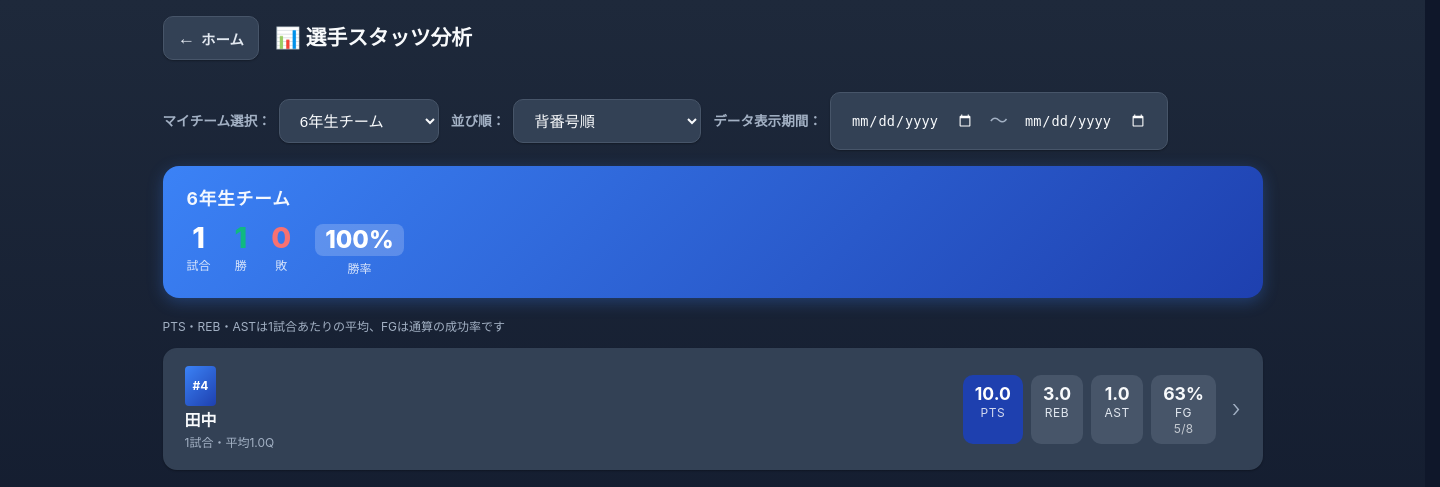
Test: データ表示期間の開始と終了 › 逆さまな範囲が入ったら、試合が無いのではなく向きが原因だと伝える
The image size is (1440, 487).
Type "2026-05-01" into the date field named "データ表示期間の開始日" at (912, 121), box [843,99,982,143]
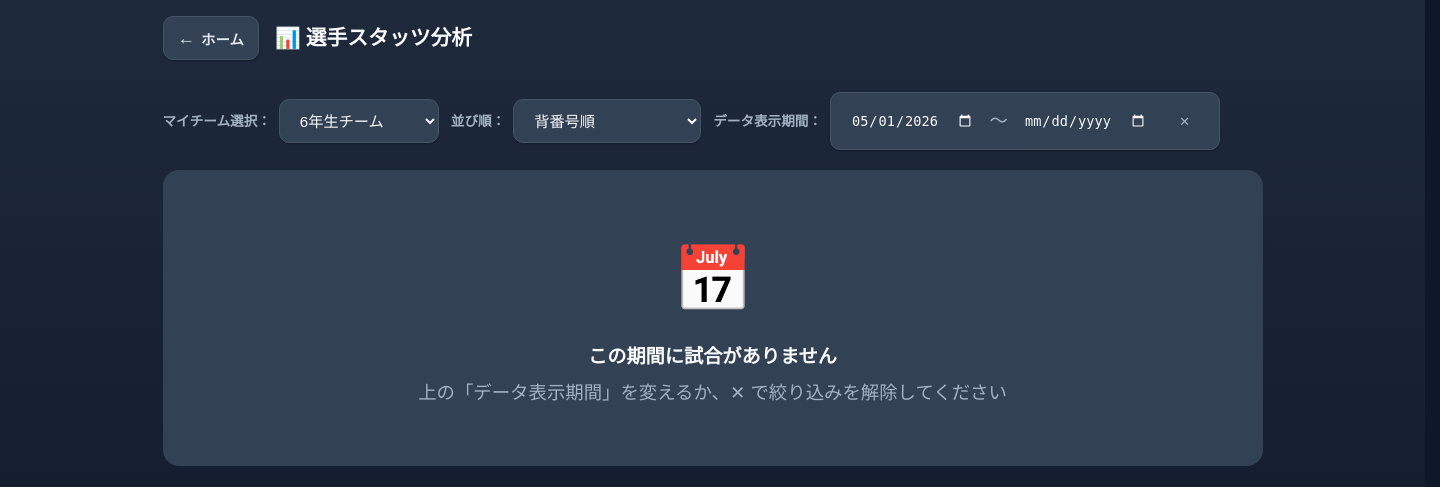
Type "2026-03-01" into the date field named "データ表示期間の終了日" at (1085, 121), box [1016,99,1155,143]
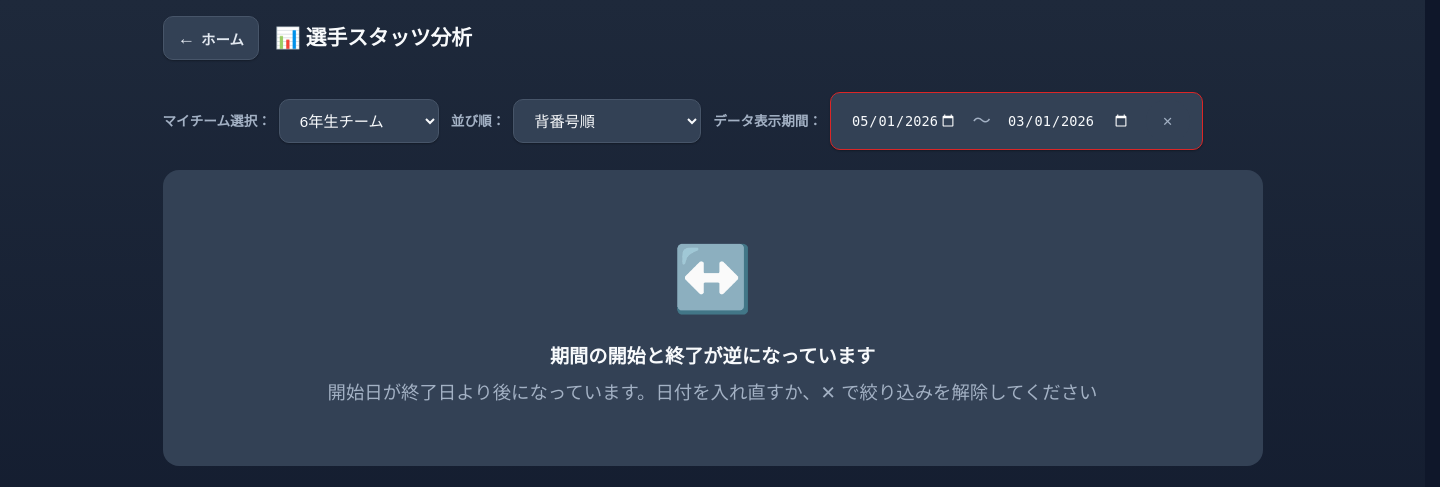
Expected: the heading "期間の開始と終了が逆になっています" is shown, [550,344,875,368]
Expected: the heading "この期間に試合がありません" is gone
